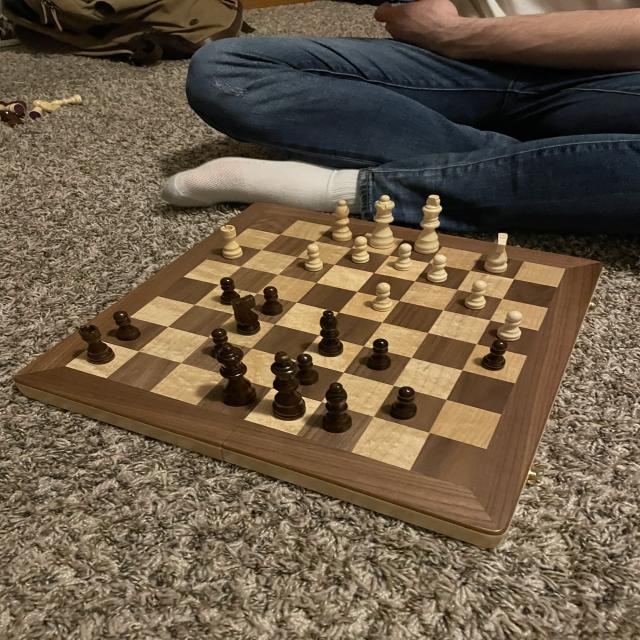bishop: (318, 380, 358, 436), (315, 308, 348, 358)
black-bishop: (268, 349, 306, 422)
black-king: (230, 293, 266, 337)
black-knight: (386, 385, 421, 422), (362, 337, 396, 373), (112, 308, 144, 344), (478, 337, 510, 372), (294, 351, 323, 387), (258, 284, 288, 318), (210, 326, 239, 361), (219, 276, 244, 306)
black-pawn: (214, 340, 262, 410)
black-queen: (77, 322, 118, 366)
black-rook: (332, 198, 355, 242)
white-bishop: (411, 193, 445, 257)
white-king: (482, 232, 509, 276)
white-knight: (494, 310, 527, 342), (462, 278, 490, 311), (423, 254, 451, 284), (371, 281, 395, 313), (303, 244, 327, 274), (392, 242, 416, 272), (349, 234, 371, 266)
white-pawn: (367, 194, 398, 252)
white-queen: (218, 223, 246, 260)
